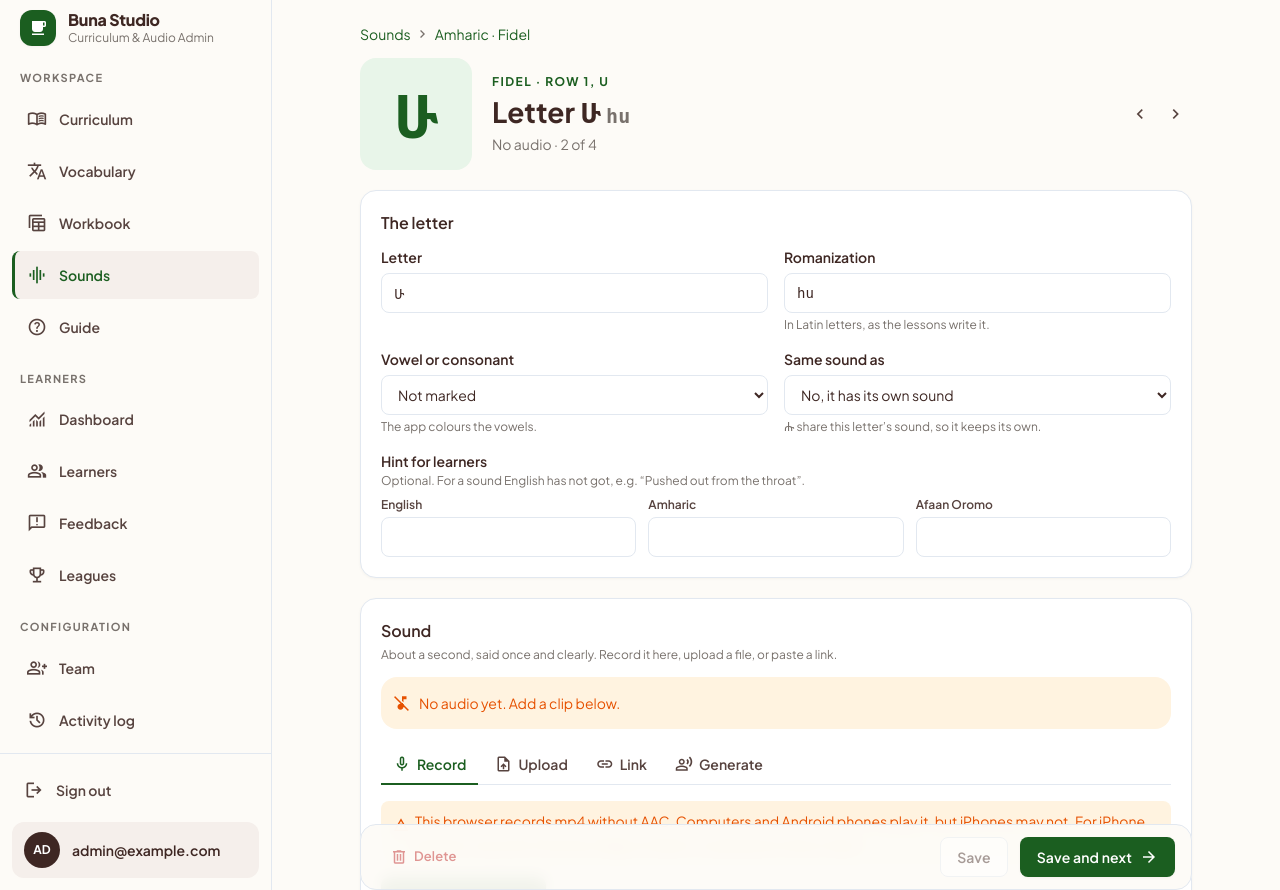
Test: a letter › saves only what changed, then moves to the next letter
Expected: the heading "Letter ሁ hu" is shown, [492,94,630,129]
Replace the text in the field labelled "Romanization" with "hū" at (978, 293), box [784,273,1171,313]
(page scrolled)
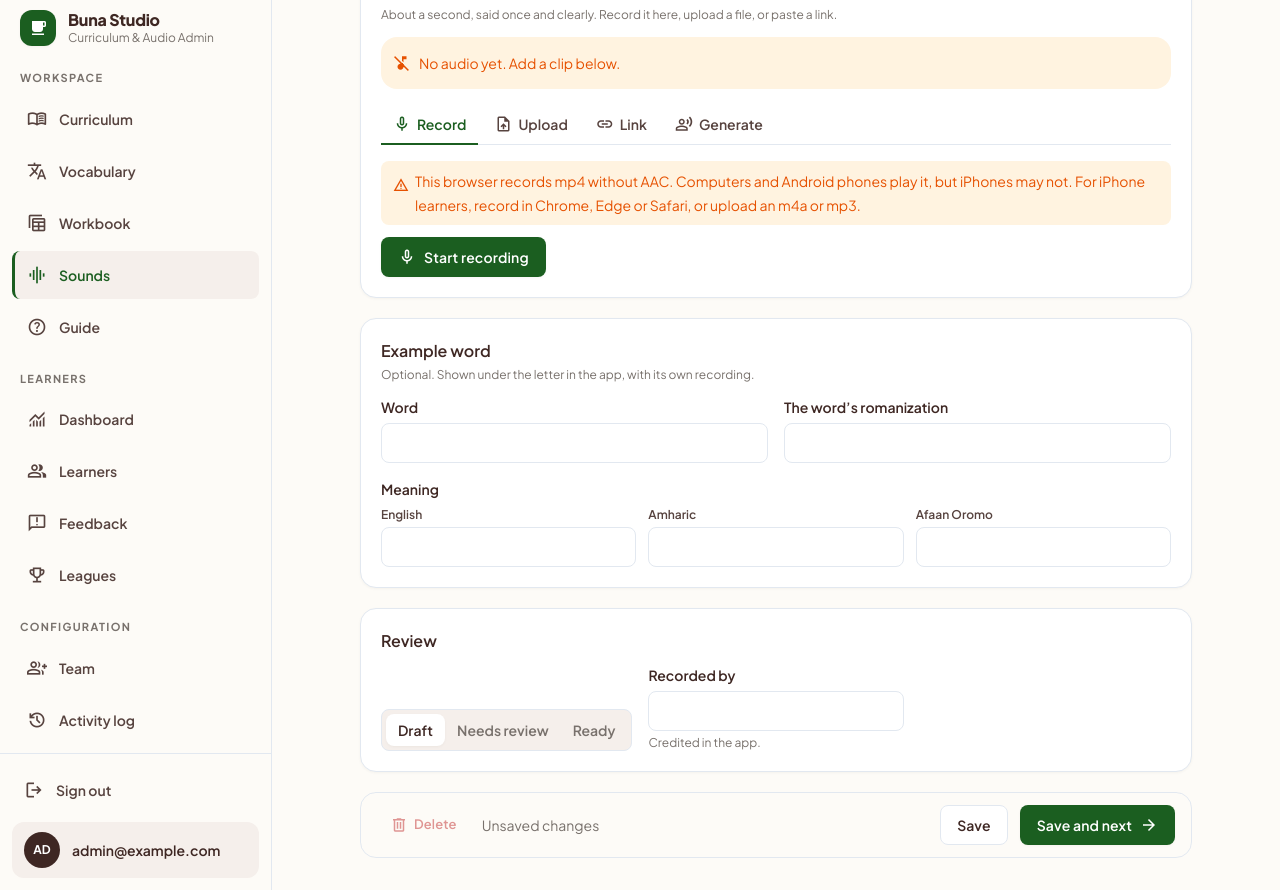
Click the radio button labelled "Needs review".
click(503, 730)  # box [445,714,561,746]
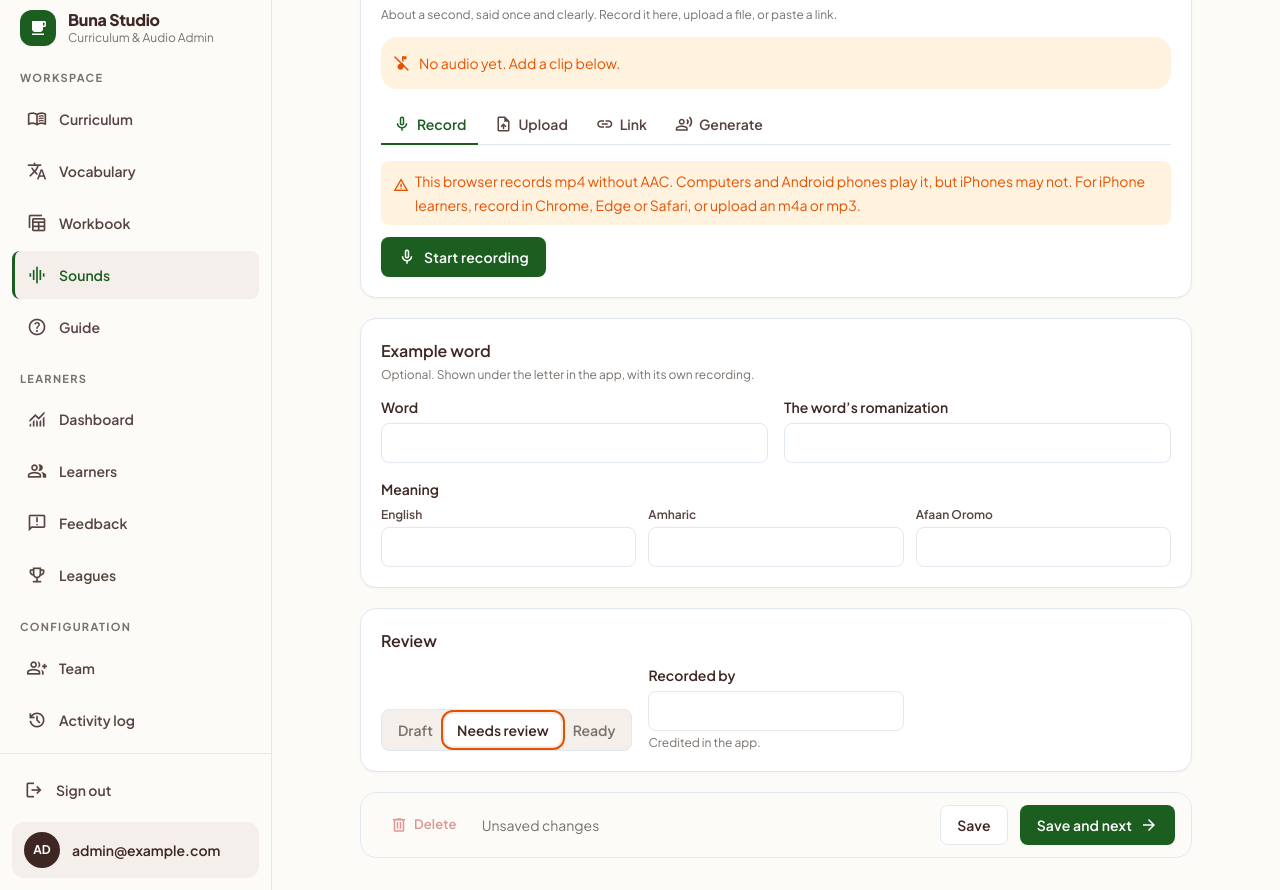
Type "Selam" into the field labelled "Recorded by".
click(776, 711); type("Selam")  # box [648,691,904,731]
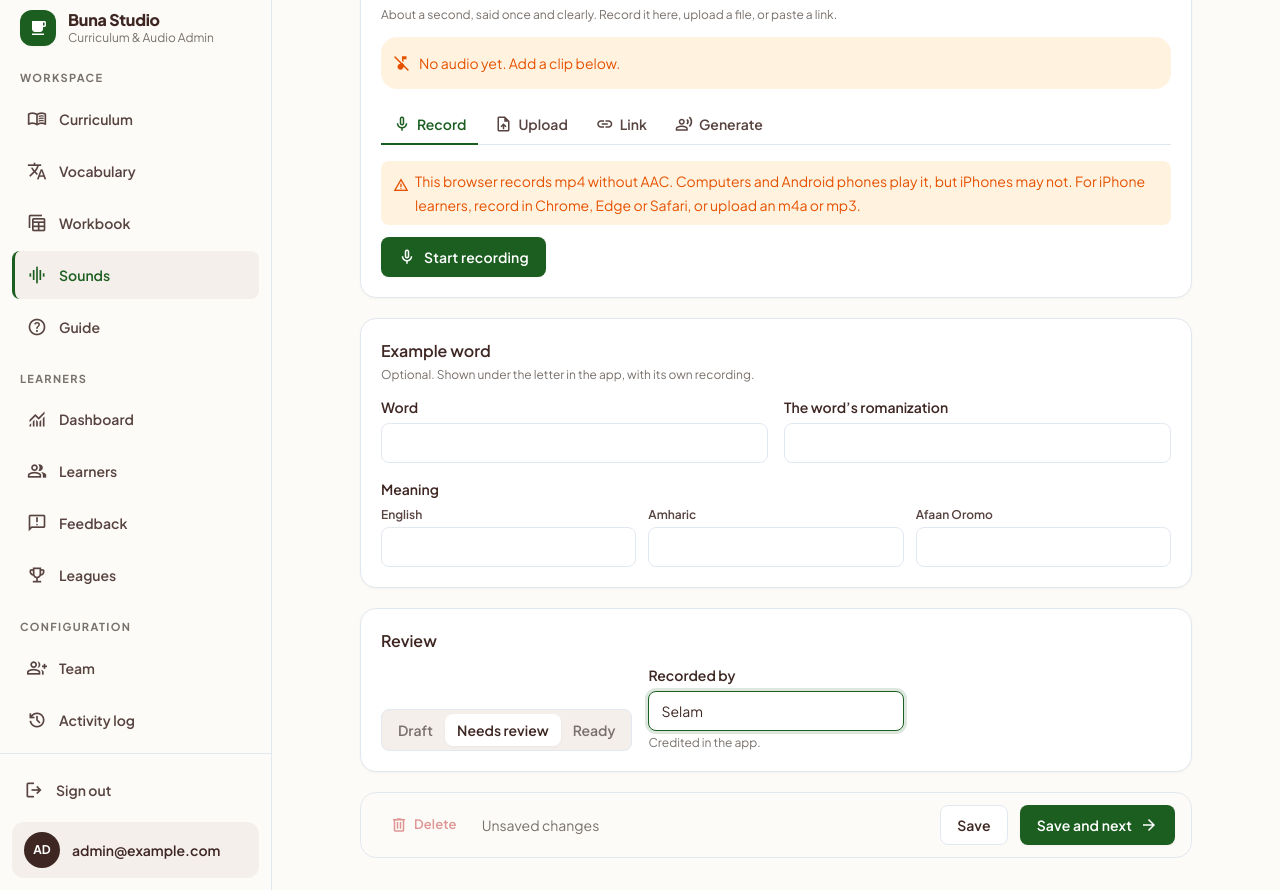
Click the button "Save and next".
click(1097, 825)  # box [1020,805,1175,845]
(page scrolled)
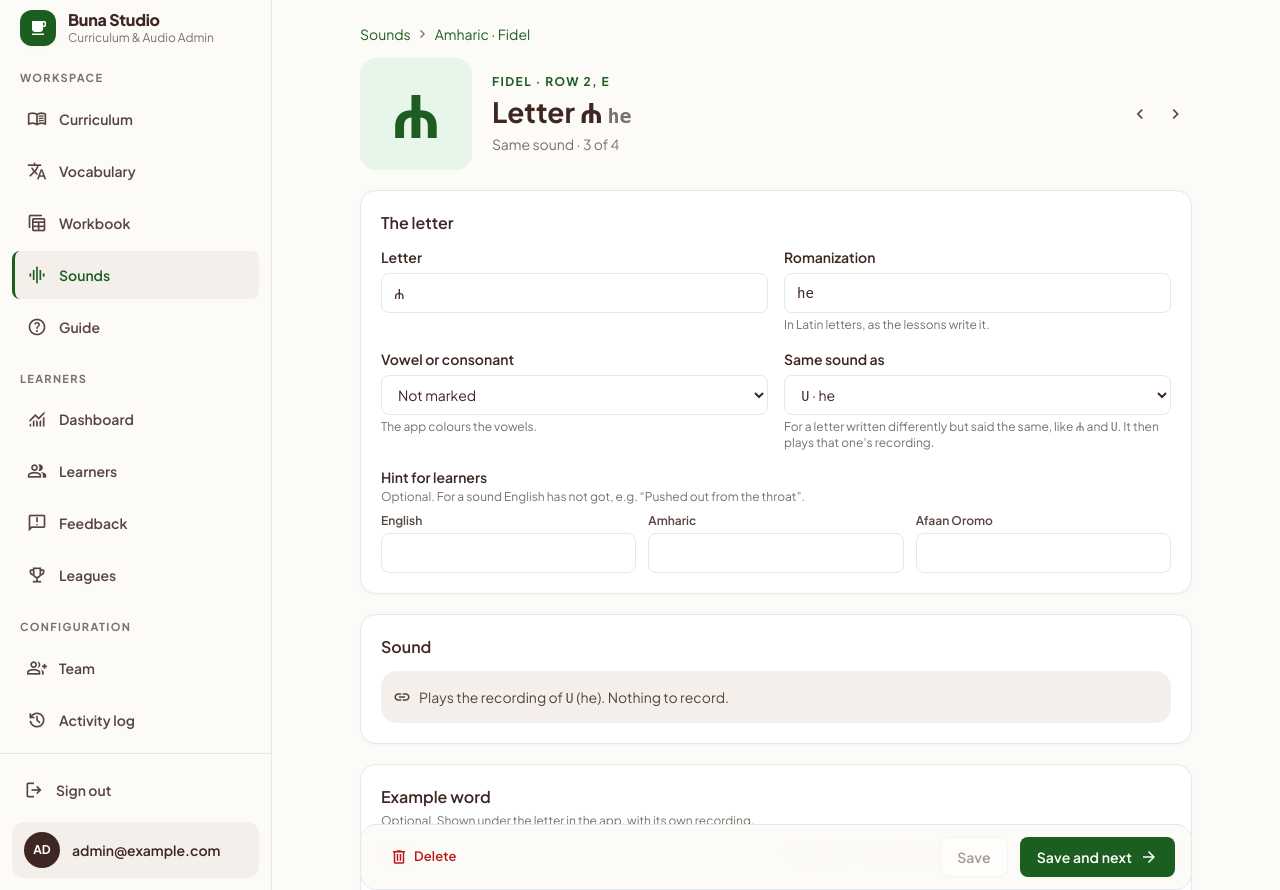
Expected: the heading "Letter ሐ he" is shown, [492,94,632,129]
